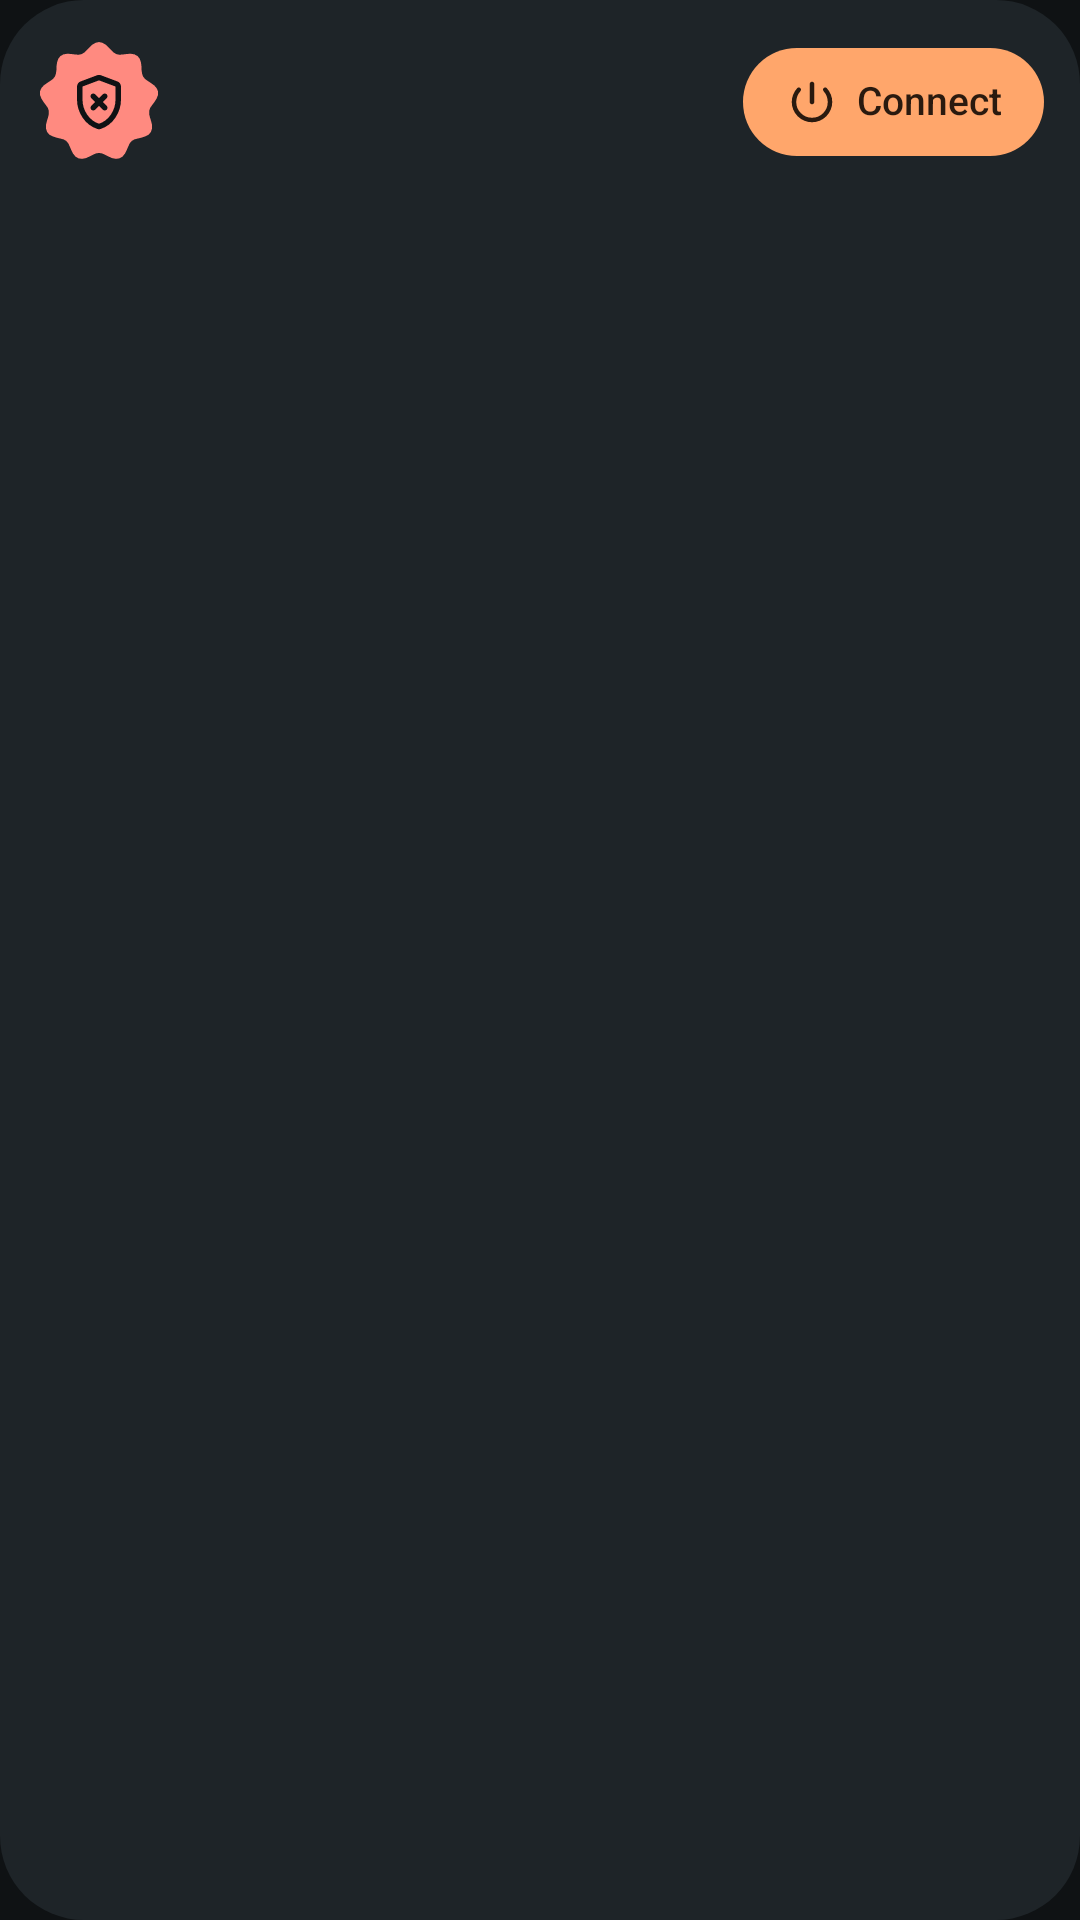

Locate icon controls on the screen. Image size 1080px×1920px, boxes as rect(x1, y1, x2, y2).
power: rect(791, 81, 833, 123)
